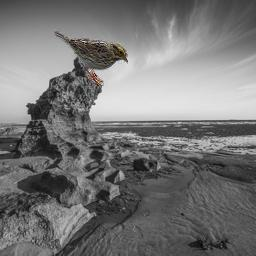Sparrow: (54, 30, 129, 87)
